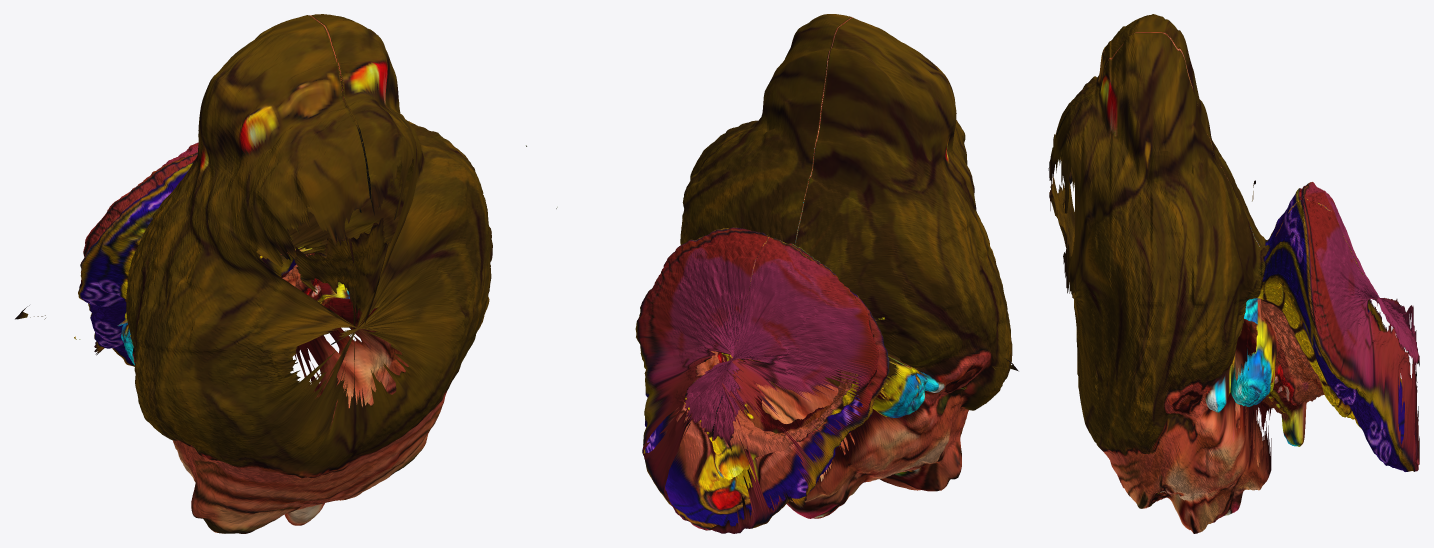
3 renders of one model, left to right at view 1: azimuth 30°, elevation 25°; view 2: azimuth 150°, elevation 25°; view 3: azimuth 270°, elevation 25°, orthographic. The views are drawn at different scales.
Visible parts, largest first — view 1: geometry_0; view 2: geometry_0; view 3: geometry_0.
Part boxes in pixels (left/top/right/bottom): geometry_0: left=15, top=14, right=526, bottom=533; geometry_0: left=556, top=14, right=1018, bottom=533; geometry_0: left=1048, top=14, right=1419, bottom=533.
Size of the model in its own units: 1.9 by 1.87 by 1.27.
1 material, 1 textured.
